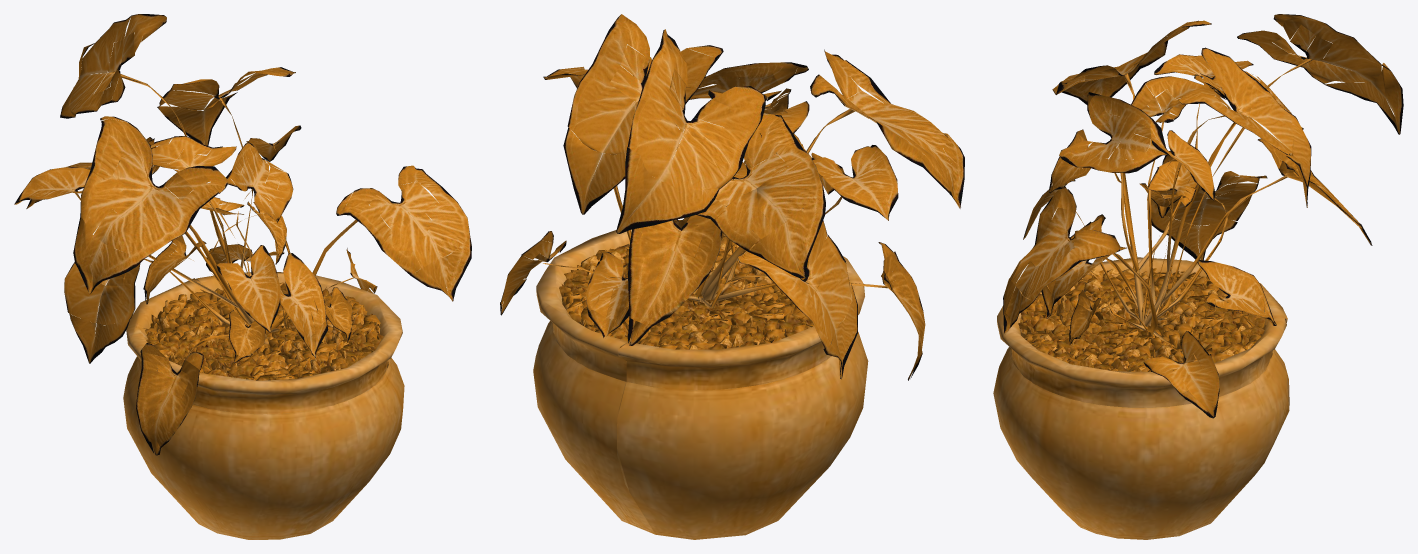
Rendered from nyb_zoo_plant.glb.
The picture shows the model from 3 angles, left to right: view 1: azimuth 30°, elevation 25°; view 2: azimuth 150°, elevation 25°; view 3: azimuth 270°, elevation 25°; orthographic projection. The views are drawn at different scales.
Parts seen in each view (by area): view 1: potted_plant_02_pot; view 2: potted_plant_02_pot; view 3: potted_plant_02_pot.
Part boxes in pixels (x1,y1,x2,y2): potted_plant_02_pot: (14,14,471,539); potted_plant_02_pot: (500,14,964,539); potted_plant_02_pot: (993,14,1403,539).
Size of the model in its own units: 0.7008 by 0.8423 by 0.6581.
Materials: 2 (2 with a texture image).
